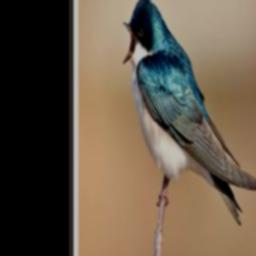Swallow: (120, 0, 256, 230)
